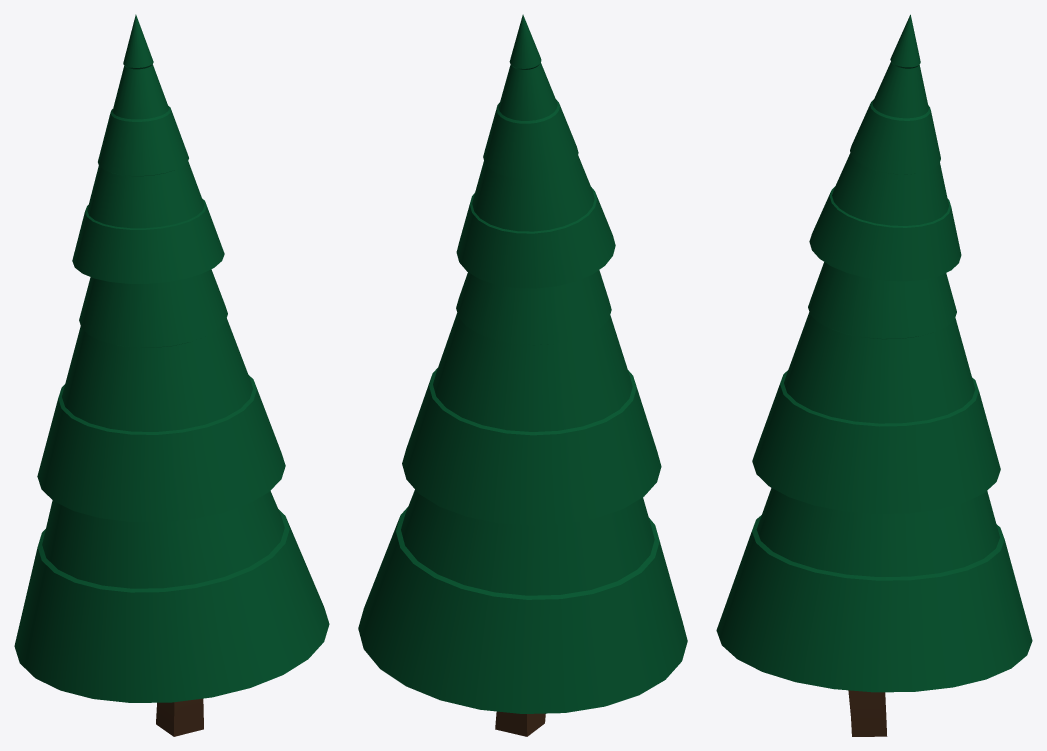
File: Coni_Tree10.fbx
3 renders of one model, left to right at view 1: azimuth 30°, elevation 25°; view 2: azimuth 150°, elevation 25°; view 3: azimuth 270°, elevation 25°, orthographic. The views are drawn at different scales.
Parts seen in each view (by area): view 1: Coni_Tree10_Leaves000, Coni_Tree10_Leaves002, Coni_Tree10_Leaves001, Coni_Tree10; view 2: Coni_Tree10_Leaves000, Coni_Tree10_Leaves002, Coni_Tree10_Leaves001, Coni_Tree10; view 3: Coni_Tree10_Leaves000, Coni_Tree10_Leaves002, Coni_Tree10_Leaves001, Coni_Tree10.
Boxes of the visible parts, bbox=[...] form: Coni_Tree10_Leaves000: bbox=[14, 491, 329, 702]; Coni_Tree10_Leaves002: bbox=[37, 269, 285, 522]; Coni_Tree10_Leaves001: bbox=[72, 14, 224, 283]; Coni_Tree10: bbox=[156, 698, 203, 736]; Coni_Tree10_Leaves000: bbox=[358, 489, 687, 713]; Coni_Tree10_Leaves002: bbox=[402, 270, 661, 525]; Coni_Tree10_Leaves001: bbox=[456, 14, 615, 288]; Coni_Tree10: bbox=[495, 711, 545, 736]; Coni_Tree10_Leaves000: bbox=[716, 488, 1032, 692]; Coni_Tree10_Leaves002: bbox=[752, 262, 1000, 513]; Coni_Tree10_Leaves001: bbox=[809, 14, 961, 281]; Coni_Tree10: bbox=[848, 690, 887, 736].
Size of the model in its own units: 106 by 261 by 106.
